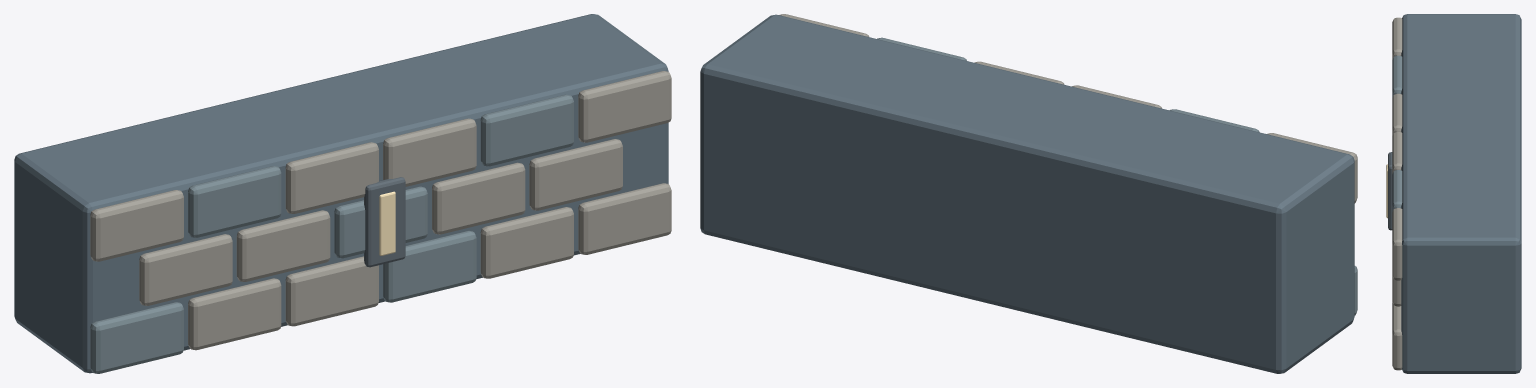
Rendered from tower_segment.glb.
3 renders of one model, left to right at view 1: azimuth 30°, elevation 25°; view 2: azimuth 150°, elevation 25°; view 3: azimuth 270°, elevation 25°, orthographic. The views are drawn at different scales.
Visible parts, largest first — view 1: tower_segment_Palette, tower_segment_Glow; view 2: tower_segment_Palette; view 3: tower_segment_Palette.
Boxes of the visible parts, x1=… form: tower_segment_Palette: x1=14, y1=14, x2=671, y2=373; tower_segment_Glow: x1=379, y1=191, x2=395, y2=255; tower_segment_Palette: x1=700, y1=14, x2=1357, y2=373; tower_segment_Palette: x1=1388, y1=14, x2=1521, y2=373.
Bounding box in the file's own units: 1.8 × 0.5 × 0.45.
